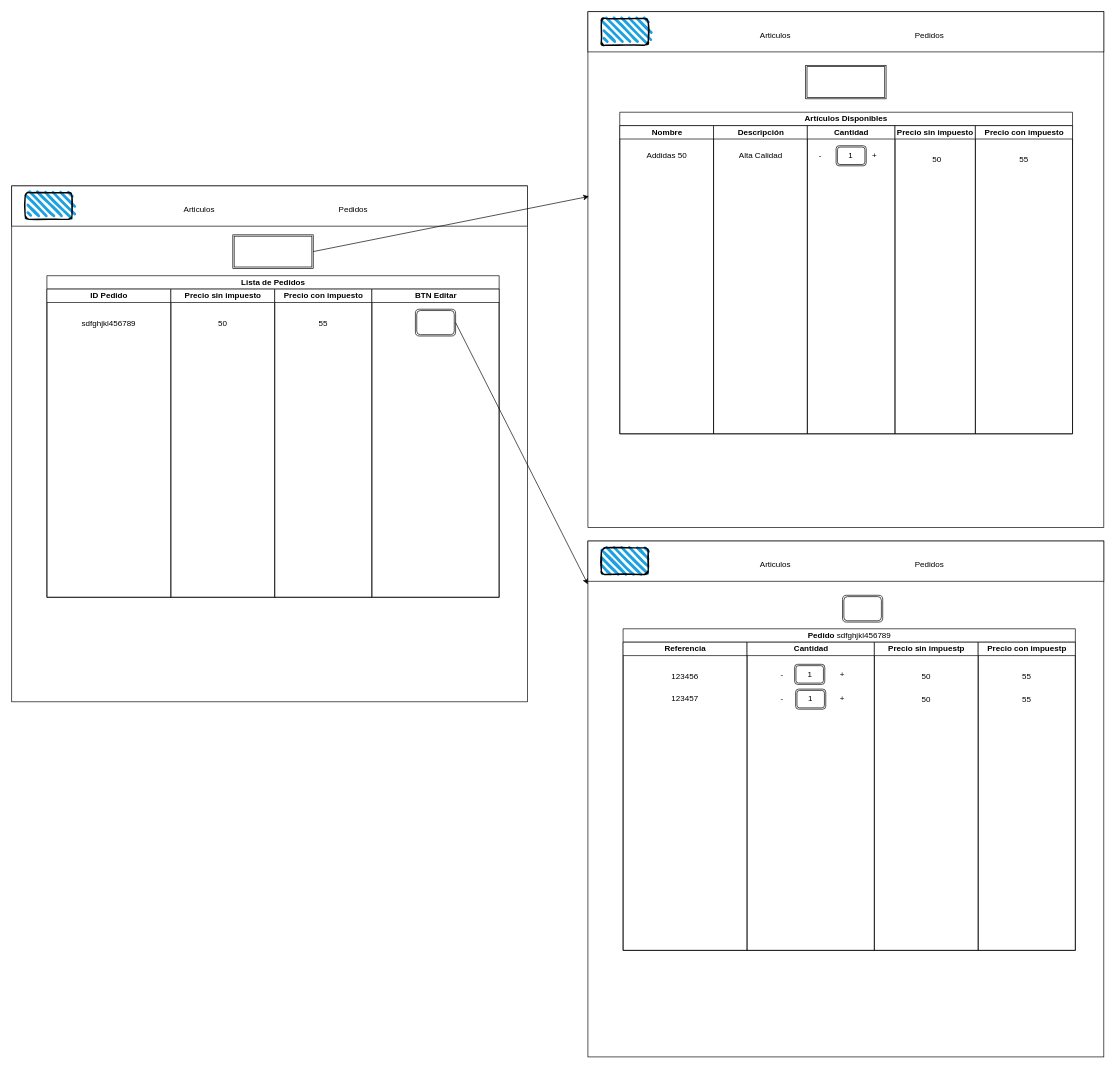
Some shapes in this 1116 by 1069 pixel diagram are drawn without their labels. Here are the shapes that lost their labels. From the top down, the centre of each, then its label:
At point (845, 82): "Pedir".
At point (272, 251): "Crear Pedido".
At point (435, 322): "Editar".
At point (862, 608): "Guardar".
